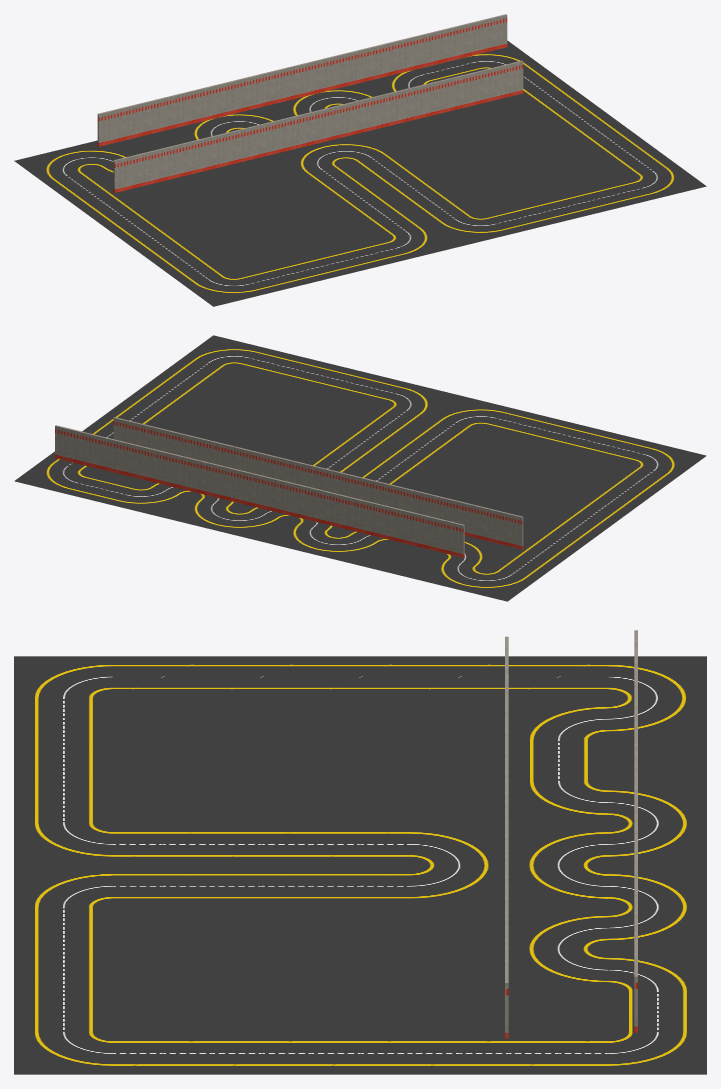
File: tunnel_2wall.dae
3 views of the same model, one above another, from view 1: azimuth 30°, elevation 25°; view 2: azimuth 150°, elevation 25°; view 3: azimuth 270°, elevation 25° (orthographic). The views are drawn at different scales.
Visible parts, largest first — view 1: Plane, Wall.001, Wall; view 2: Plane, Wall.001, Wall; view 3: Plane, Wall.001, Wall.
Part boxes in pixels (x1,y1,x2,y2): Plane: [14, 40, 706, 306]; Wall.001: [97, 14, 507, 146]; Wall: [113, 60, 523, 192]; Plane: [14, 335, 706, 601]; Wall.001: [55, 425, 464, 557]; Wall: [113, 417, 523, 549]; Plane: [14, 656, 706, 1074]; Wall.001: [634, 630, 637, 1032]; Wall: [505, 636, 508, 1038].
Bounding box in the file's own units: 40 × 28 × 3.58.
2 materials, 2 textured.
